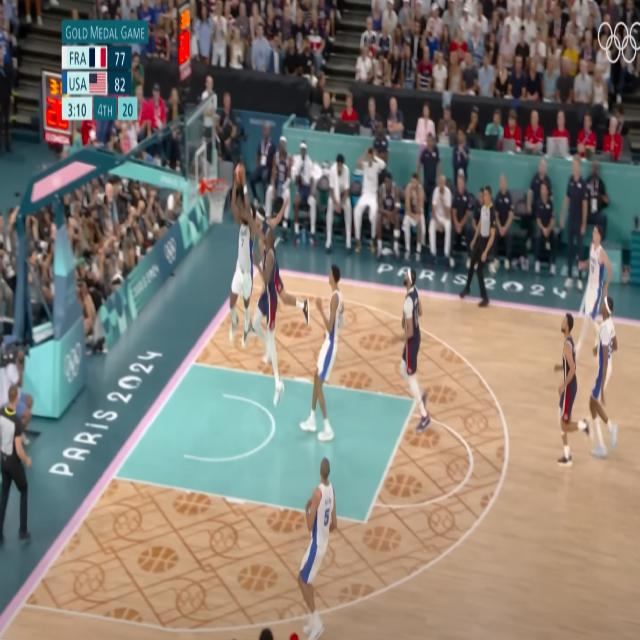basketball: (235, 158, 246, 185)
hoop: (203, 178, 228, 226)
